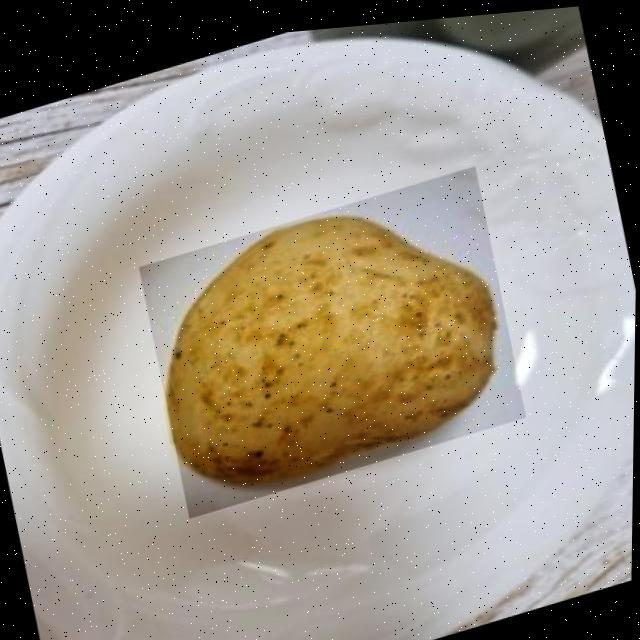Potato: (137, 158, 531, 512)
